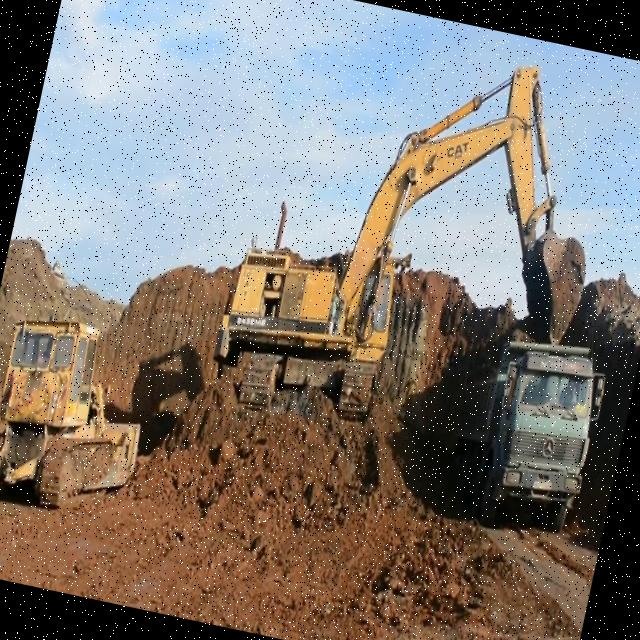Bulldozer: (0, 302, 162, 536)
Dump Truck: (432, 323, 610, 552)
Excavator: (188, 11, 630, 511)
